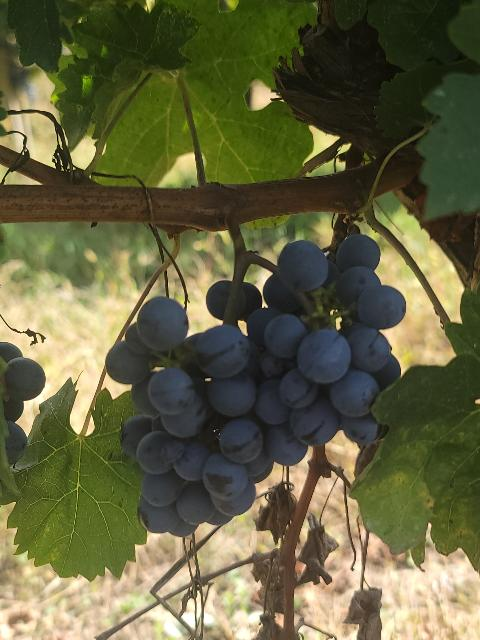grapes: (105, 234, 406, 536)
